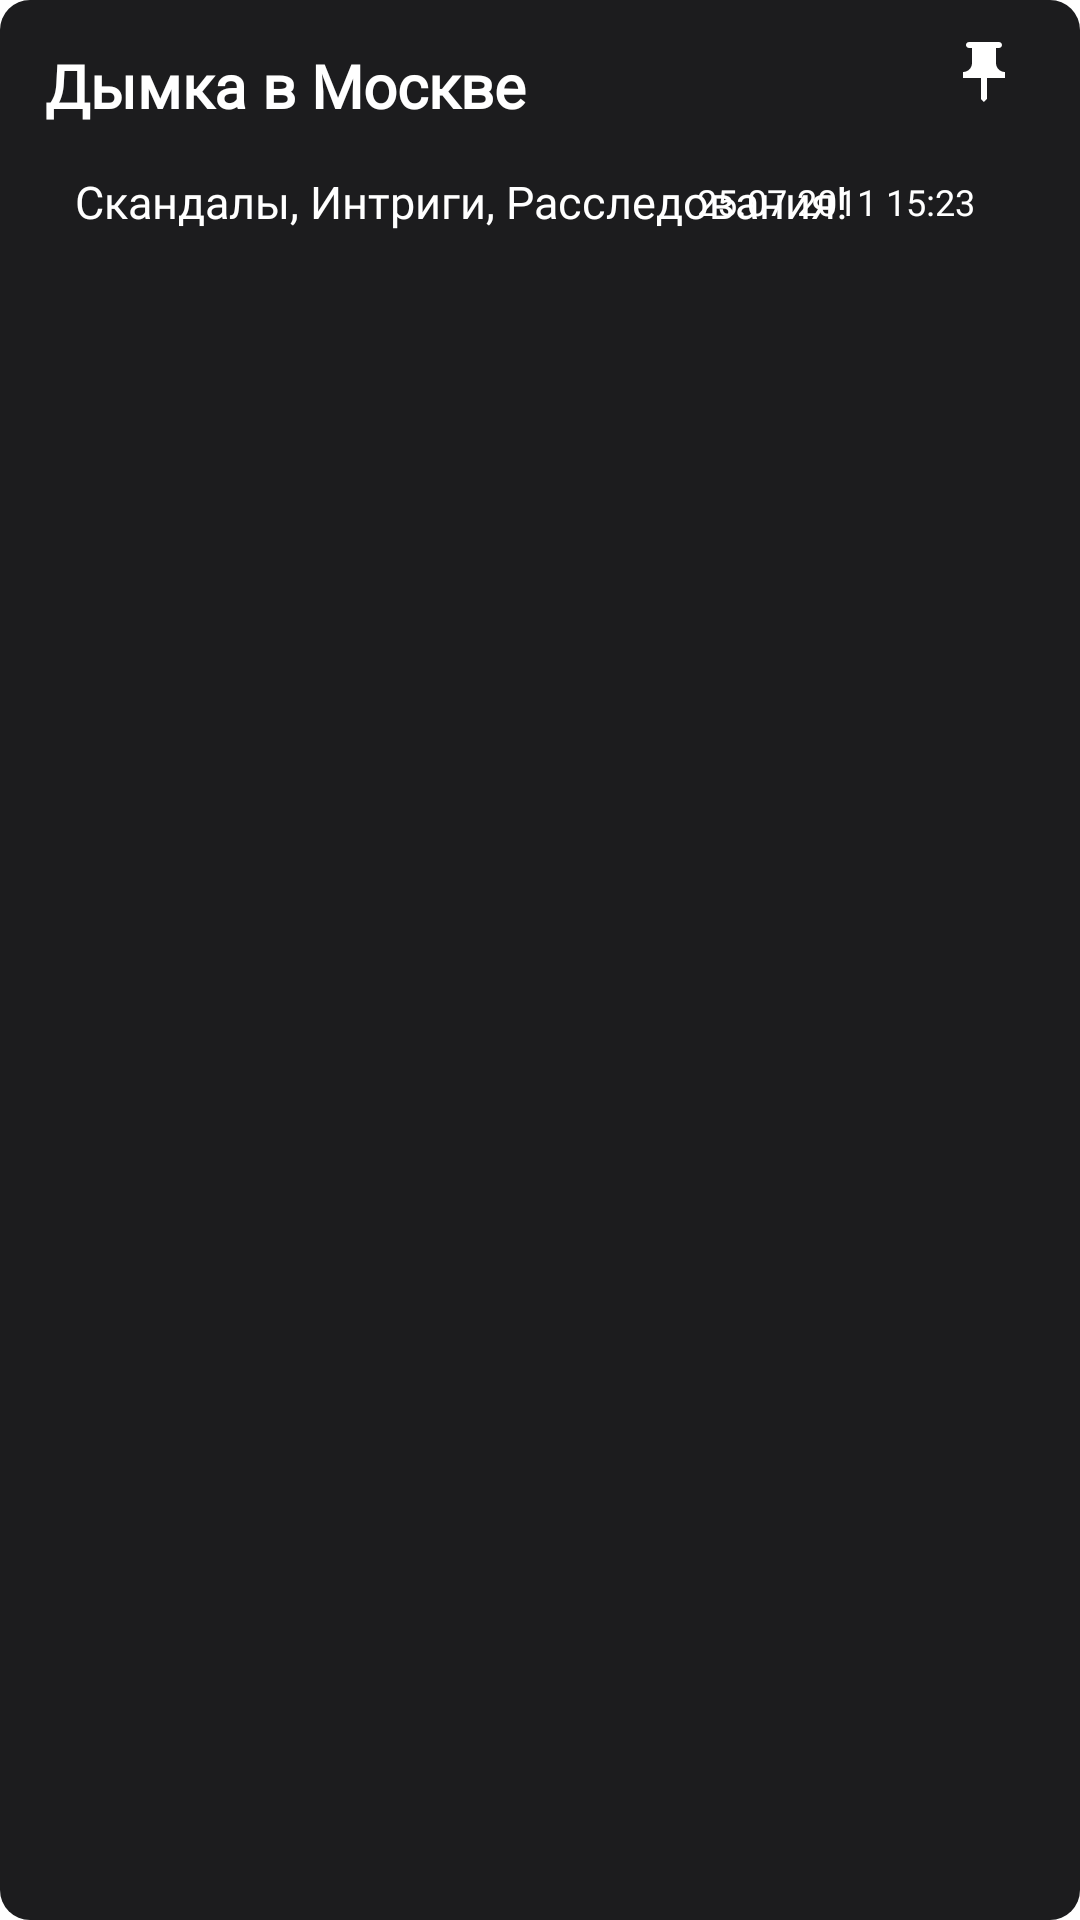

Where to tap for icons on this 1080×1920 app screen, as (x,y):
pin: (984,72)
